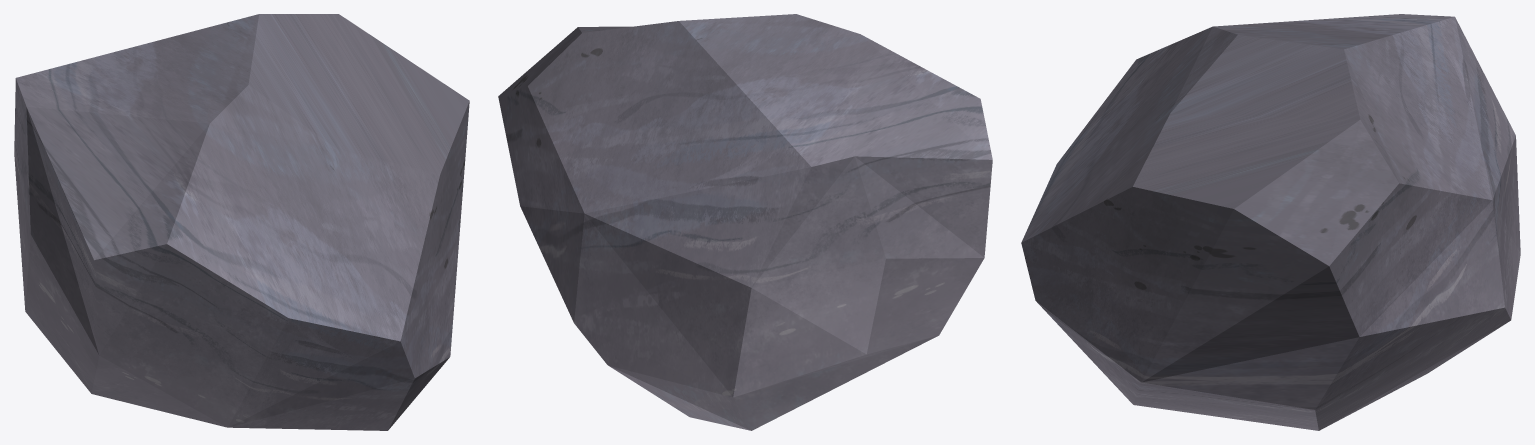
The model's file is rock_2_010.fbx.
3 renders of one model, left to right at view 1: azimuth 30°, elevation 25°; view 2: azimuth 150°, elevation 25°; view 3: azimuth 270°, elevation 25°, orthographic.
Visible parts, largest first — view 1: rock 2.010; view 2: rock 2.010; view 3: rock 2.010.
Part boxes in pixels (x1=…): rock 2.010: x1=14, y1=14, x2=469, y2=430; rock 2.010: x1=498, y1=14, x2=992, y2=430; rock 2.010: x1=1021, y1=14, x2=1520, y2=430.
Size of the model in its own units: 74.76 by 61.47 by 76.14.
